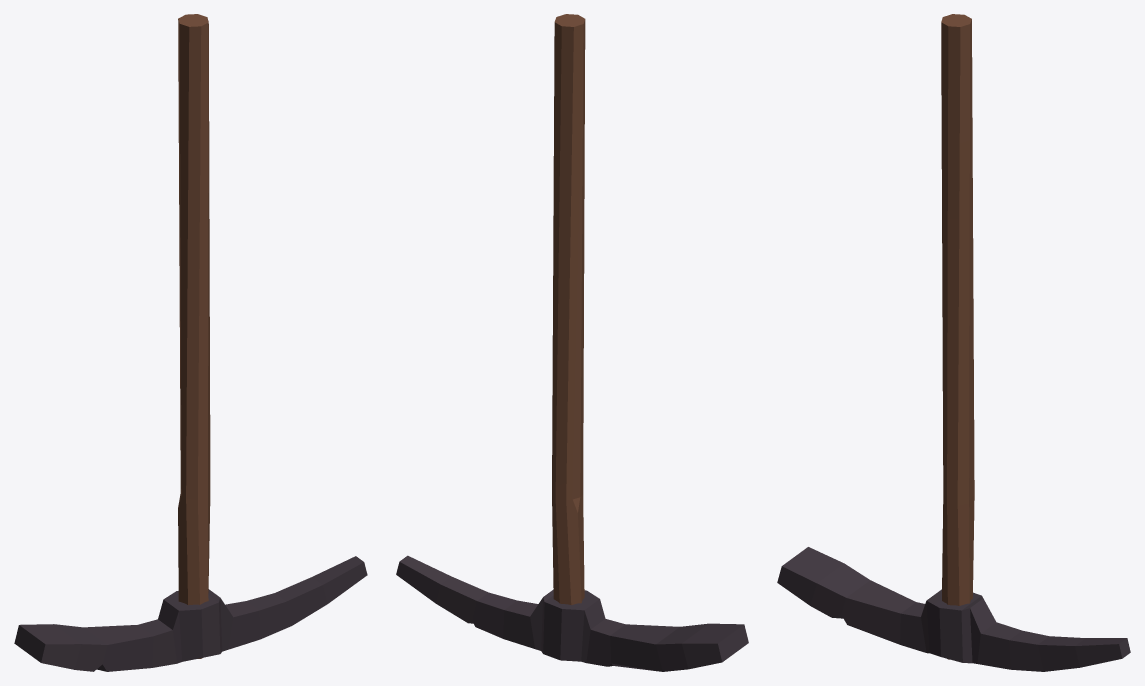
File: Pickaxe Village.fbx
3 views of the same model, side by side, from view 1: azimuth 30°, elevation 25°; view 2: azimuth 150°, elevation 25°; view 3: azimuth 330°, elevation 25° (orthographic).
Visible parts, largest first — view 1: Pickaxe; view 2: Pickaxe; view 3: Pickaxe.
Boxes of the visible parts, x1,y1,x2,y2 form: Pickaxe: (14,14,367,671); Pickaxe: (396,14,748,671); Pickaxe: (777,14,1130,671).
Bounding box in the file's own units: 0.6015 × 1.08 × 0.0851.
